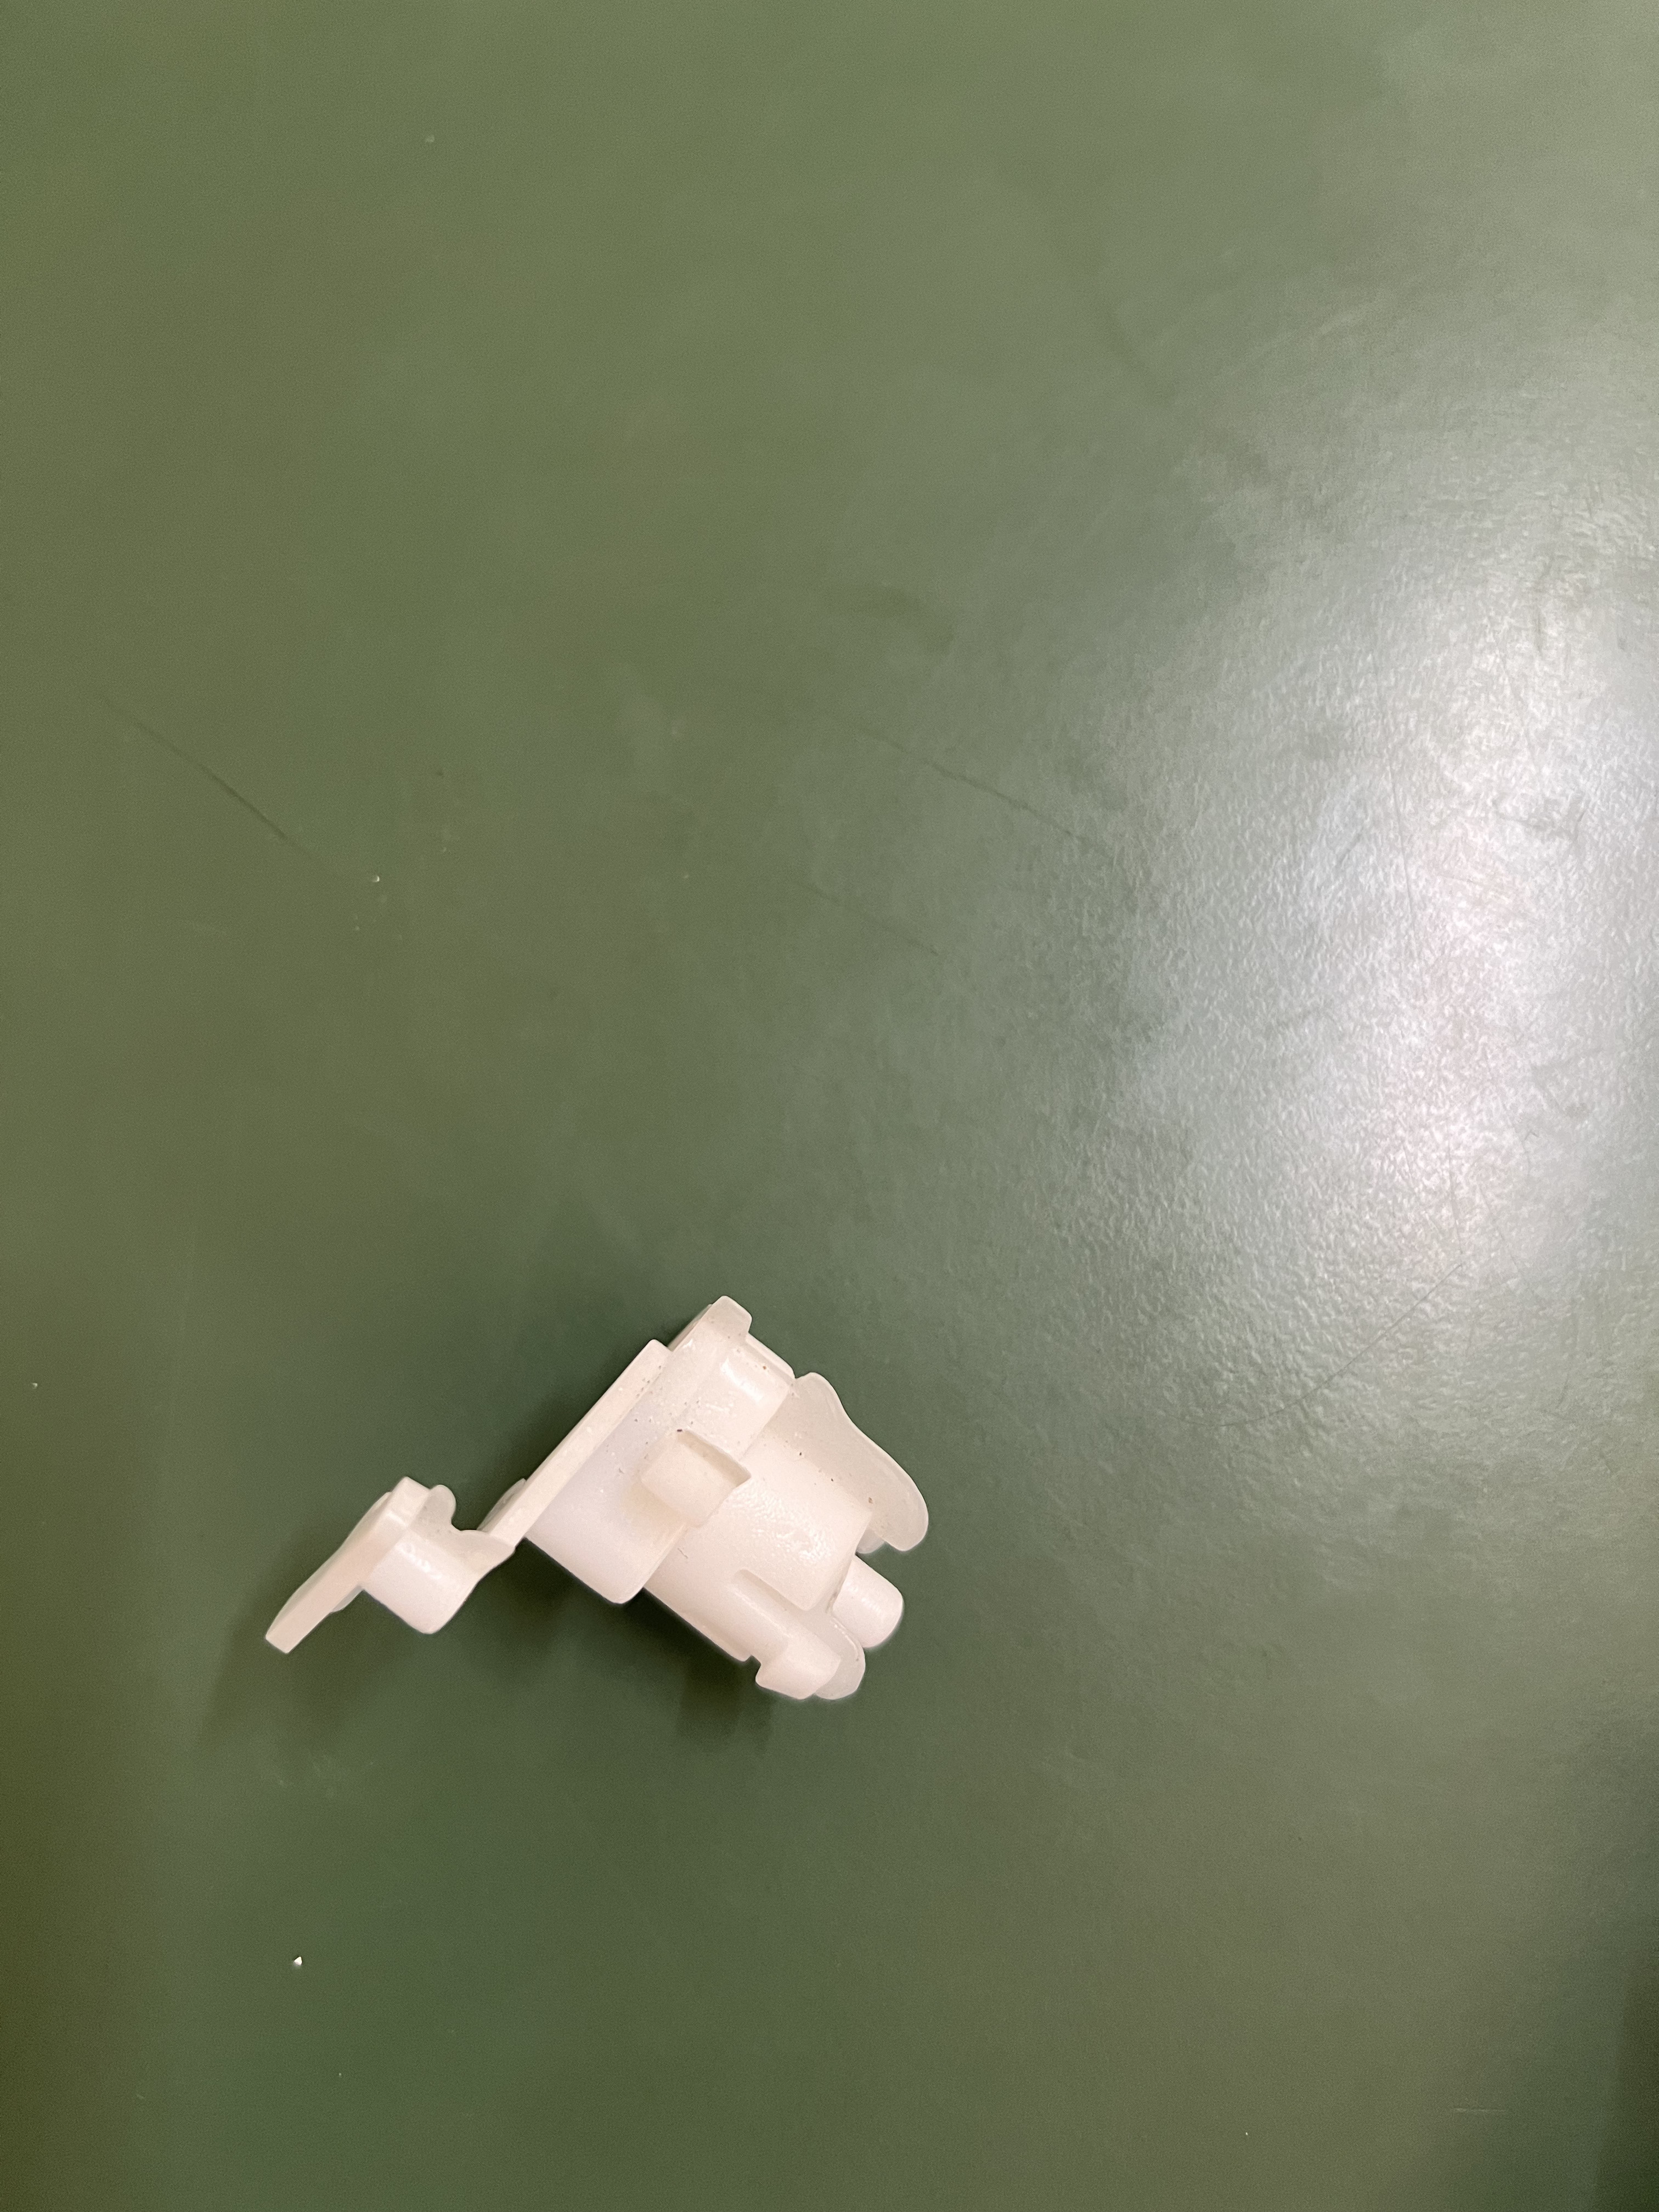drain_lever: (234, 1280, 943, 1761)
